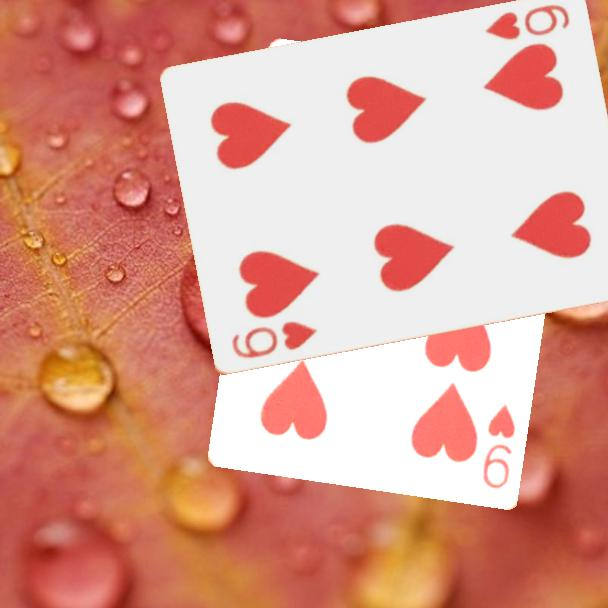h06: (228, 318, 320, 362), (481, 1, 572, 44)
h09: (479, 401, 519, 492)
